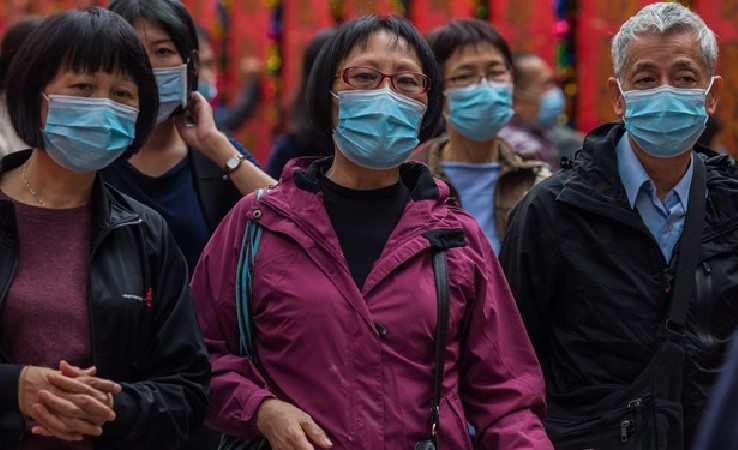face_with_mask: (24, 22, 150, 180), (608, 6, 728, 158), (318, 21, 437, 173), (110, 2, 198, 133), (426, 21, 515, 139)
